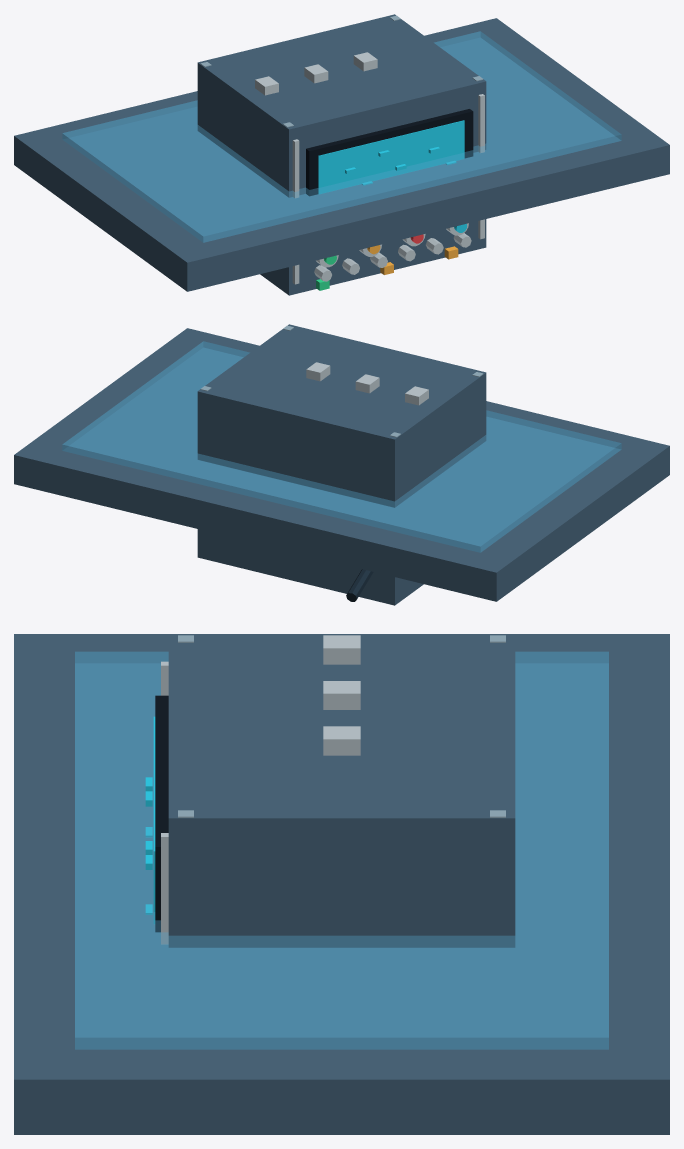
The model's file is 65_L80_ESDGuardedPhotonicTestFixture.fbx.
The picture shows the model from 3 angles, top to bottom: view 1: azimuth 30°, elevation 25°; view 2: azimuth 150°, elevation 25°; view 3: azimuth 270°, elevation 25°; orthographic projection. The views are drawn at different scales.
Parts seen in each view (by area): view 1: ESDGuardedPhotonicTestFixture_Part_0035, ESDGuardedPhotonicTestFixture, ESDGuardedPhotonicTestFixture_Part_0036; view 2: ESDGuardedPhotonicTestFixture_Part_0035, ESDGuardedPhotonicTestFixture, ESDGuardedPhotonicTestFixture_Part_0036; view 3: ESDGuardedPhotonicTestFixture_Part_0035, ESDGuardedPhotonicTestFixture, ESDGuardedPhotonicTestFixture_Part_0036.
Part boxes in pixels (x1,y1,x2,y2): ESDGuardedPhotonicTestFixture_Part_0035: [14, 18, 669, 291]; ESDGuardedPhotonicTestFixture: [197, 14, 486, 295]; ESDGuardedPhotonicTestFixture_Part_0036: [62, 31, 621, 242]; ESDGuardedPhotonicTestFixture_Part_0035: [14, 328, 669, 601]; ESDGuardedPhotonicTestFixture: [197, 324, 486, 605]; ESDGuardedPhotonicTestFixture_Part_0036: [62, 341, 621, 552]; ESDGuardedPhotonicTestFixture_Part_0035: [14, 634, 669, 1134]; ESDGuardedPhotonicTestFixture: [145, 635, 515, 947]; ESDGuardedPhotonicTestFixture_Part_0036: [75, 651, 608, 1049].
Bounding box in the file's own units: 225 × 77.86 × 140.
